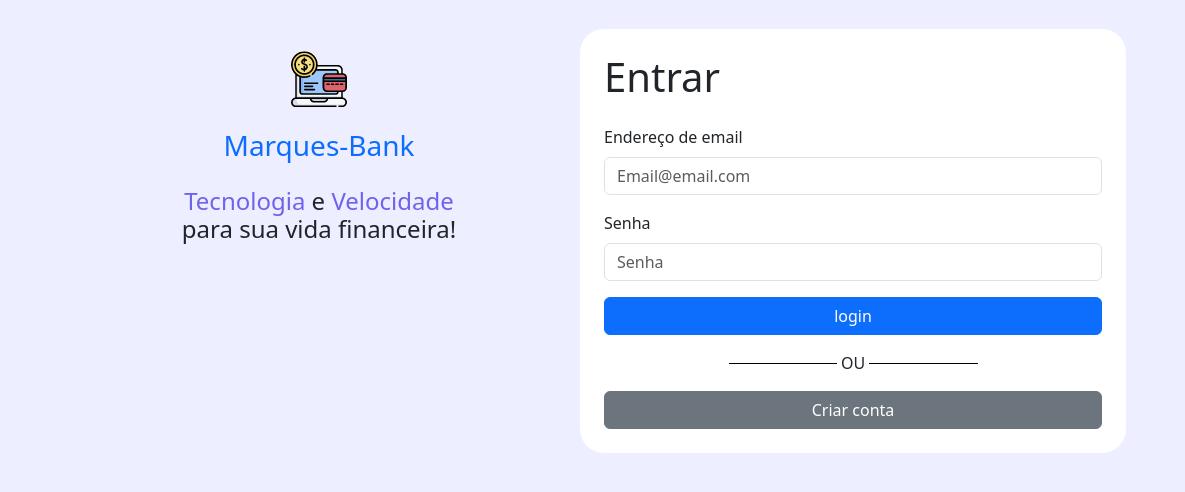
Test: Login screen › Should redirect user to home
Click the button "Criar conta".
click(853, 410)  # box [604, 391, 1102, 429]
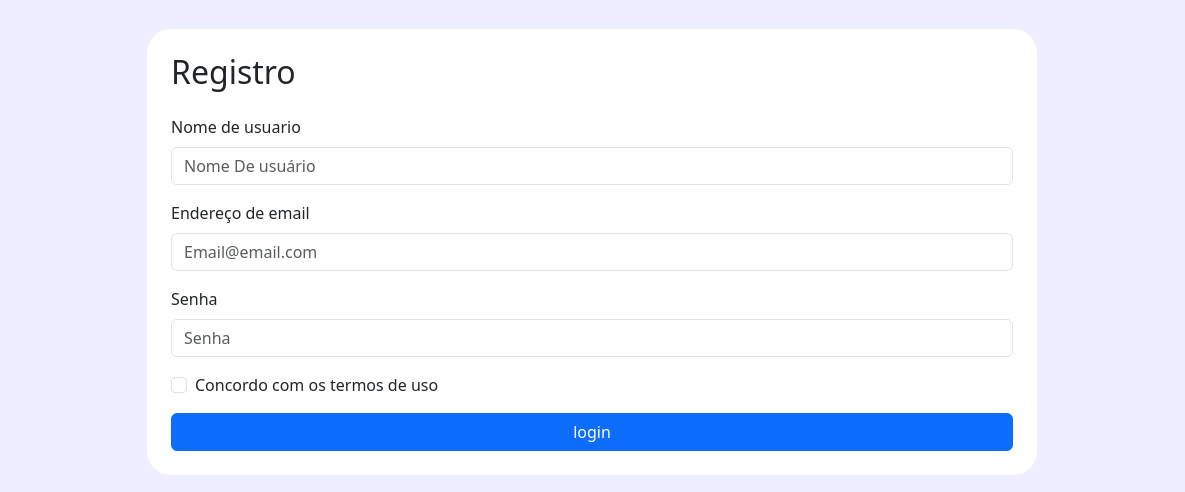
Type "usernameTest" into the field labelled "Nome de usuario".
click(592, 166); type("usernameTest")  # box [171, 147, 1013, 185]
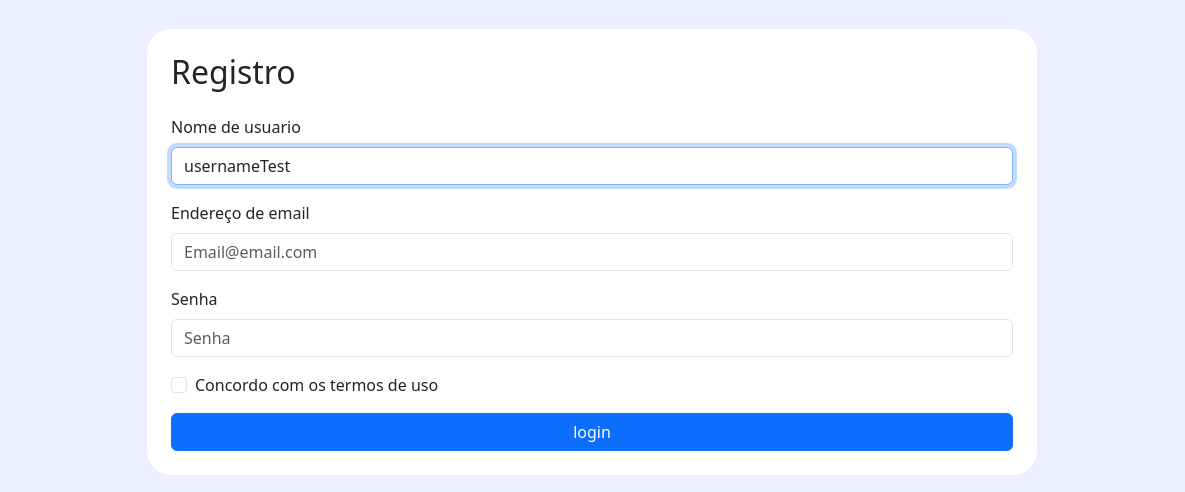
Type "emailTest@email.com" into the field labelled "Endereço de email".
click(592, 252); type("emailTest@email.com")  # box [171, 233, 1013, 271]
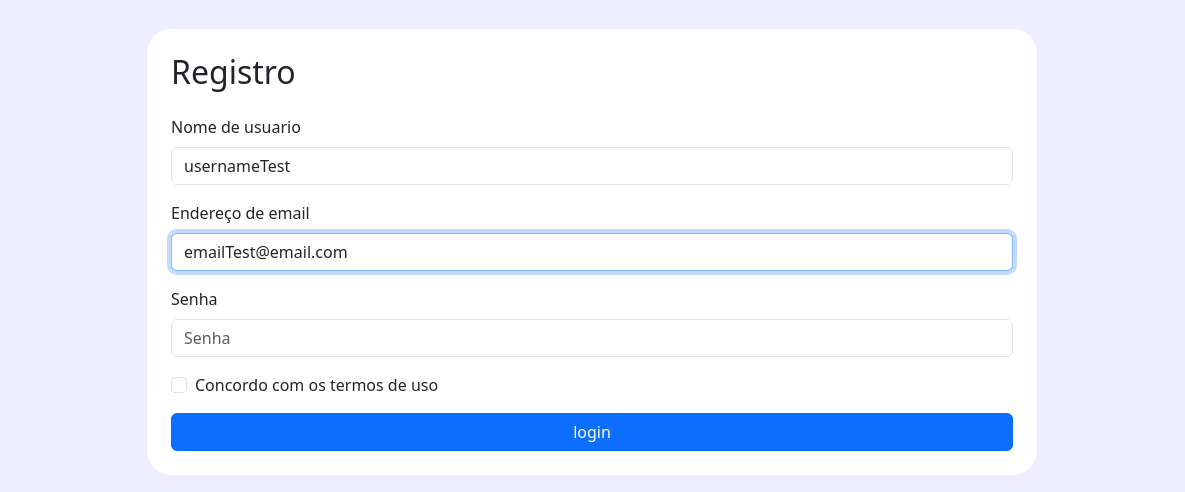
Type "passwordT" into the password field labelled "Senha".
click(592, 338); type("passwordT")  # box [171, 319, 1013, 357]
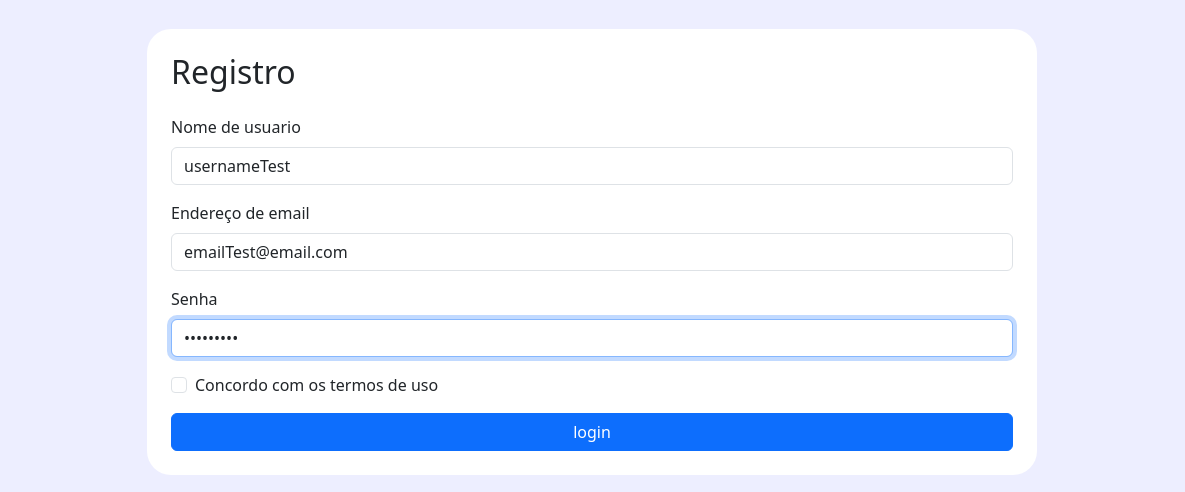
Click the checkbox labelled "Concordo com os termos de uso".
click(179, 385)  # box [171, 377, 187, 393]
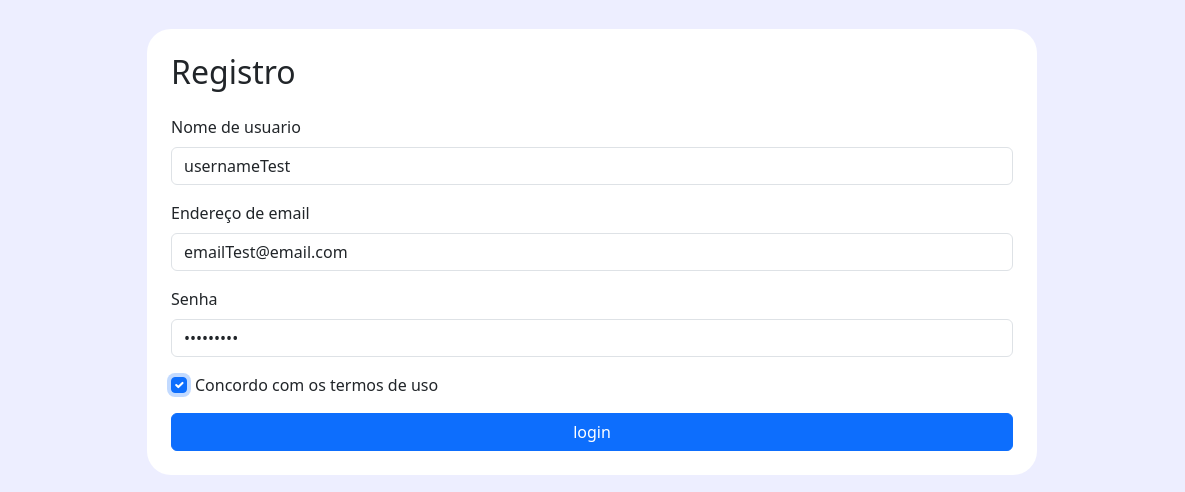
Click the button "login".
click(592, 432)  # box [171, 413, 1013, 451]
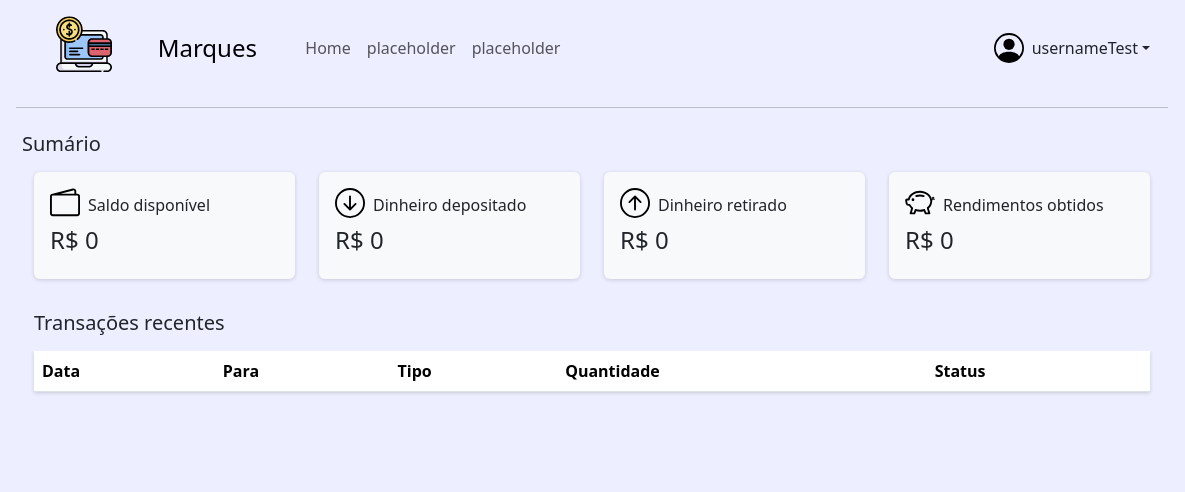
Expected: the heading "Marques" is shown, [158, 31, 257, 64]
